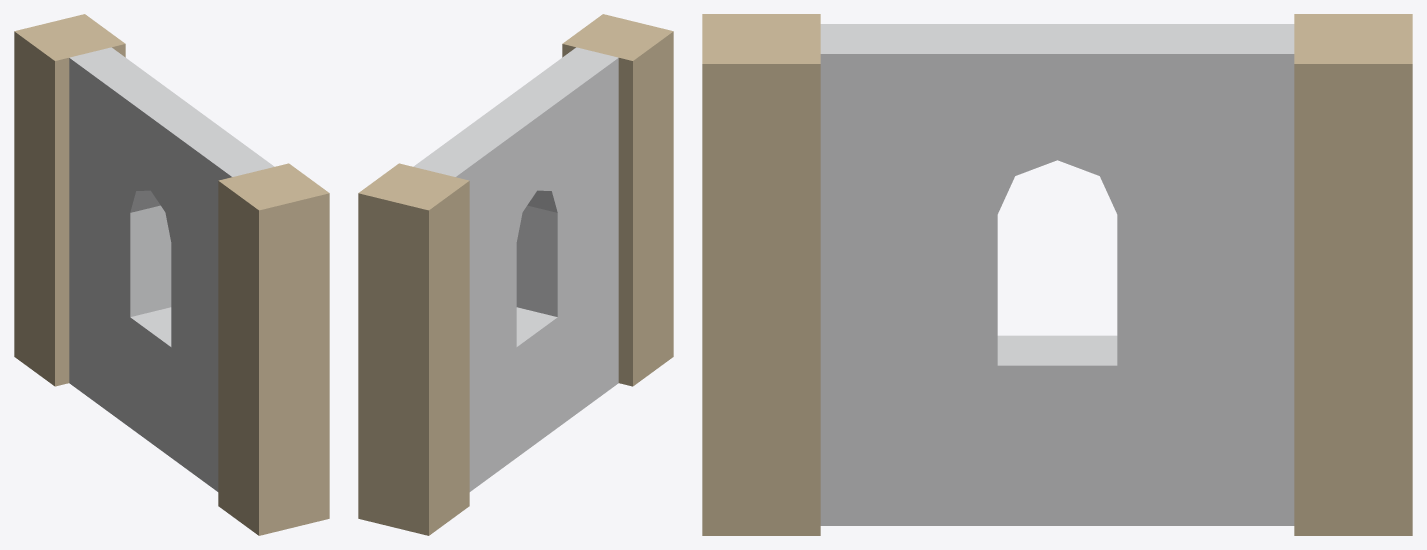
File: Wood_Window_Round_01.glb
The picture shows the model from 3 angles, left to right: view 1: azimuth 30°, elevation 25°; view 2: azimuth 150°, elevation 25°; view 3: azimuth 270°, elevation 25°; orthographic projection. The views are drawn at different scales.
Visible parts, largest first — view 1: Mesh1 Wood_Window_Round Model; view 2: Mesh1 Wood_Window_Round Model; view 3: Mesh1 Wood_Window_Round Model.
Boxes of the visible parts, x1=… form: Mesh1 Wood_Window_Round Model: x1=14, y1=14, x2=329, y2=535; Mesh1 Wood_Window_Round Model: x1=358, y1=14, x2=673, y2=535; Mesh1 Wood_Window_Round Model: x1=702, y1=14, x2=1412, y2=535.
Size of the model in its own units: 0.5 by 2.2 by 3.
